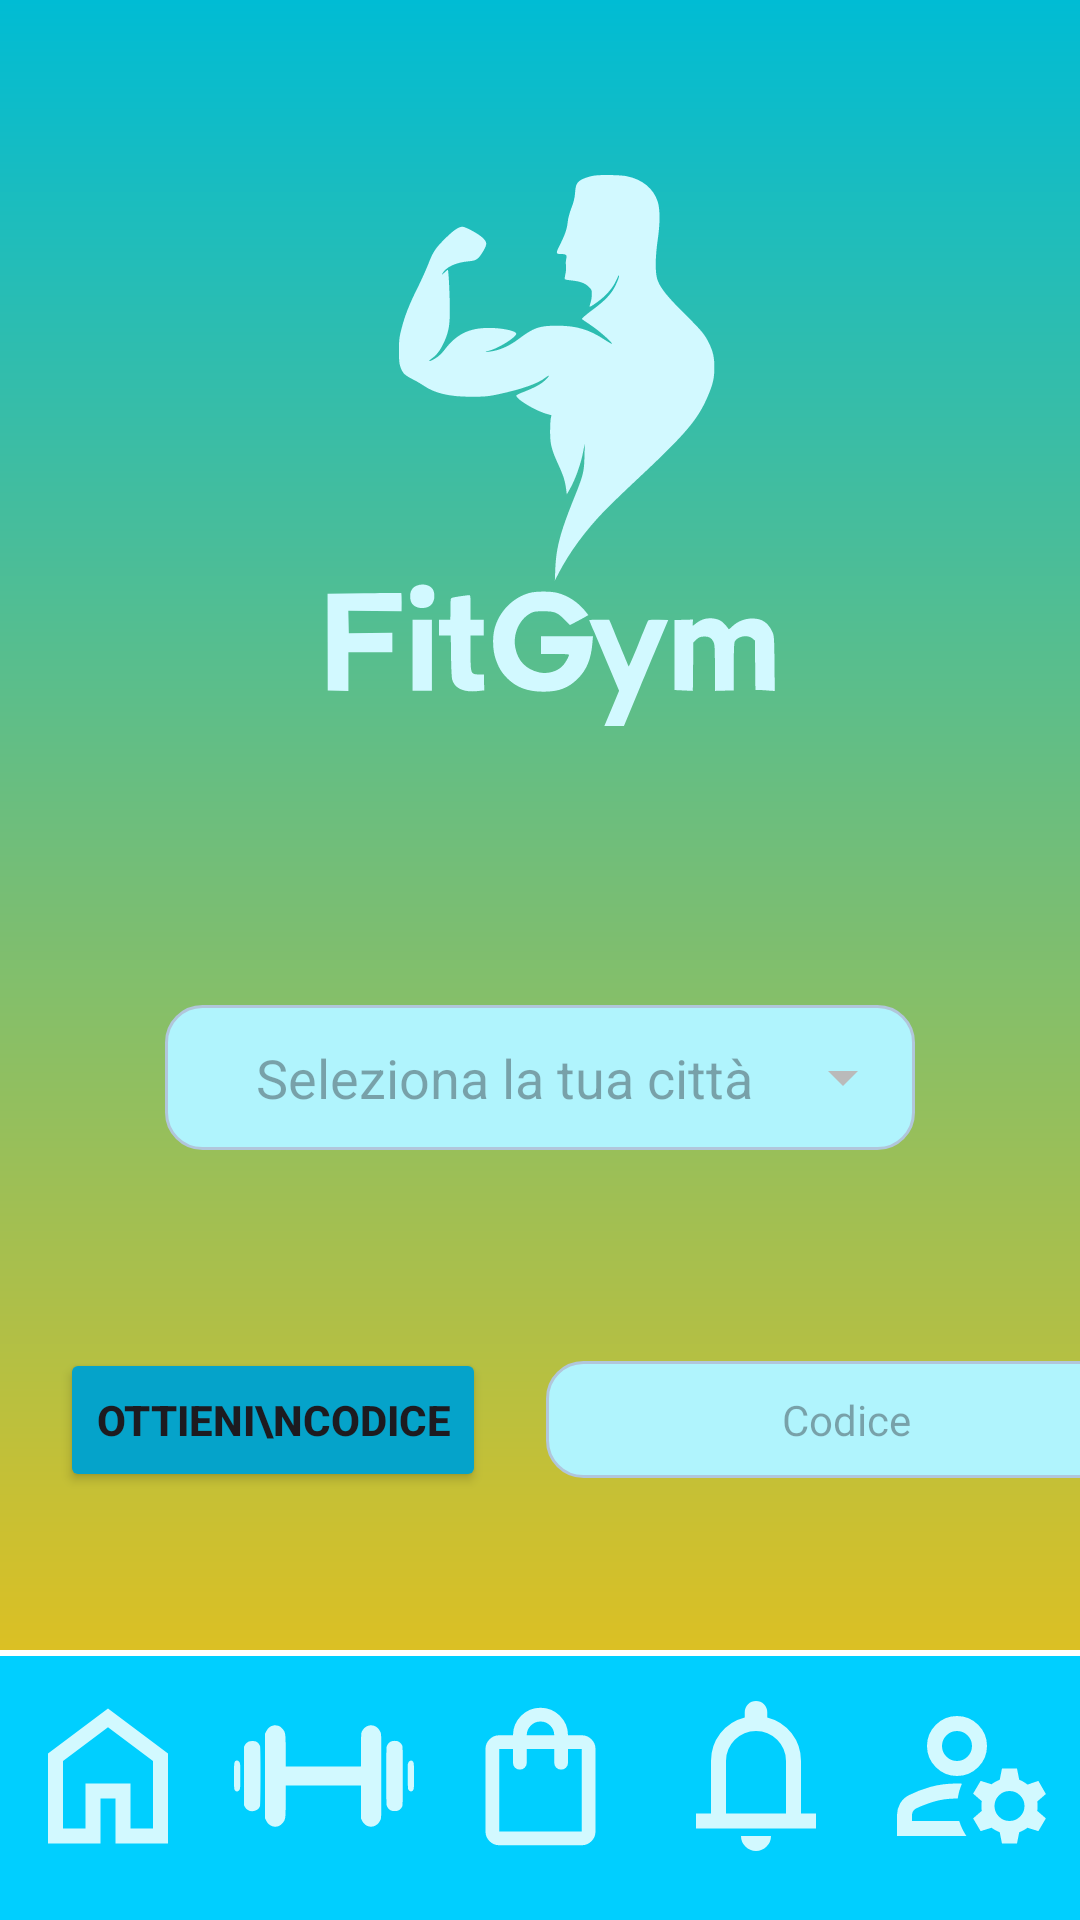

Named icons in this screenshot (1080px x 1920px) and their bounding boxes, (x1, y1, x2, y2):
Home: (48, 1708, 168, 1844)
icona corsi: (234, 1725, 414, 1827)
icona negozio: (485, 1707, 596, 1846)
Notifiche: (696, 1701, 816, 1851)
Profilo: (897, 1716, 1046, 1844)
